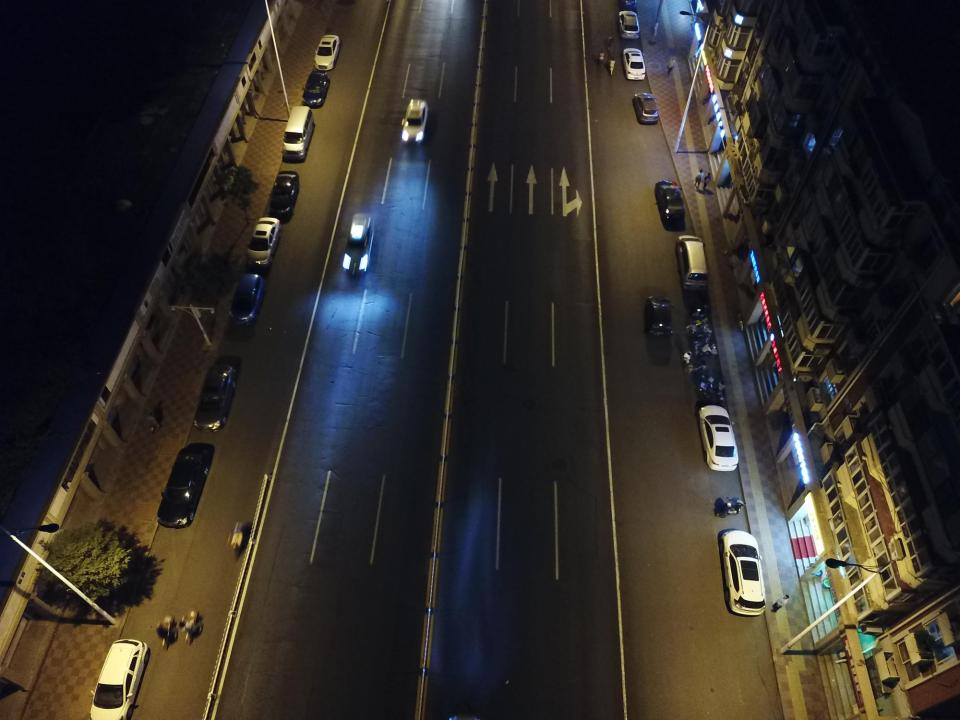car: (90, 638, 149, 720), (156, 445, 208, 528), (721, 528, 766, 616), (197, 359, 240, 428), (700, 406, 739, 472), (341, 210, 375, 274), (226, 272, 265, 323), (248, 216, 282, 264), (269, 167, 300, 219), (654, 178, 686, 227), (399, 98, 430, 147), (644, 295, 676, 338), (314, 34, 342, 71), (632, 91, 658, 125), (302, 74, 328, 106), (622, 48, 646, 81), (620, 10, 640, 40), (623, 1, 637, 10)
van: (282, 103, 314, 162), (678, 234, 706, 288)
